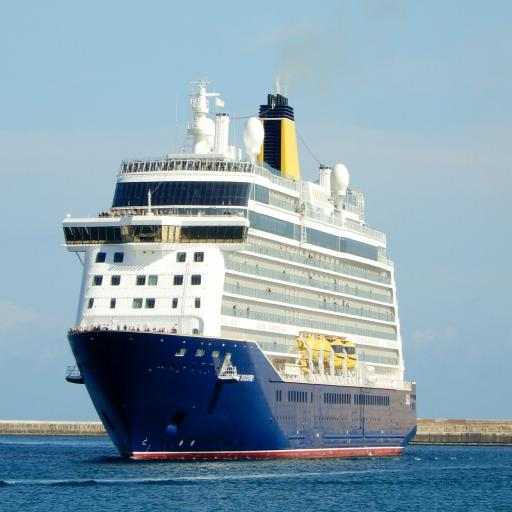cruises: (57, 66, 429, 459)
